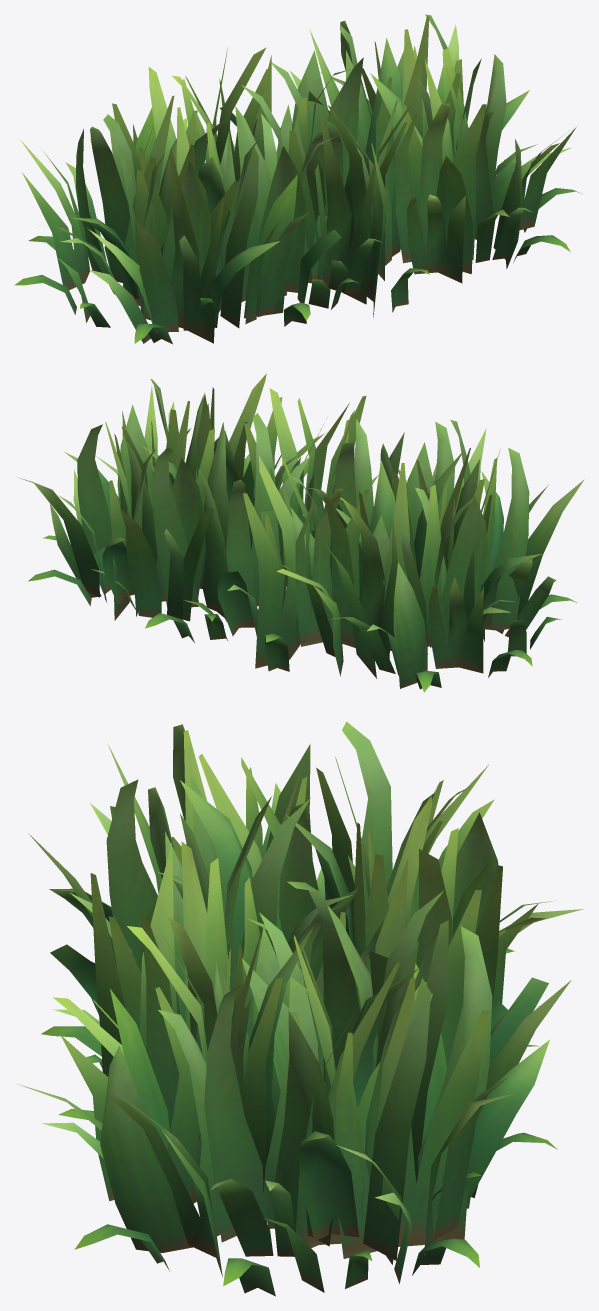
File: pref_sm_beach_techgrass_alpha_yellow02_lv2.fbx
3 views of the same model, one above another, from view 1: azimuth 30°, elevation 25°; view 2: azimuth 150°, elevation 25°; view 3: azimuth 270°, elevation 25° (orthographic). The views are drawn at different scales.
Visible parts, largest first — view 1: pref_sm_beach_techgrass_alpha_yellow02_lv2; view 2: pref_sm_beach_techgrass_alpha_yellow02_lv2; view 3: pref_sm_beach_techgrass_alpha_yellow02_lv2.
Boxes of the visible parts, x1,y1,x2,y2 form: pref_sm_beach_techgrass_alpha_yellow02_lv2: (14,14,581,344); pref_sm_beach_techgrass_alpha_yellow02_lv2: (17,373,584,692); pref_sm_beach_techgrass_alpha_yellow02_lv2: (16,721,583,1296).
Bounding box in the file's own units: 4.82 × 1.81 × 3.
